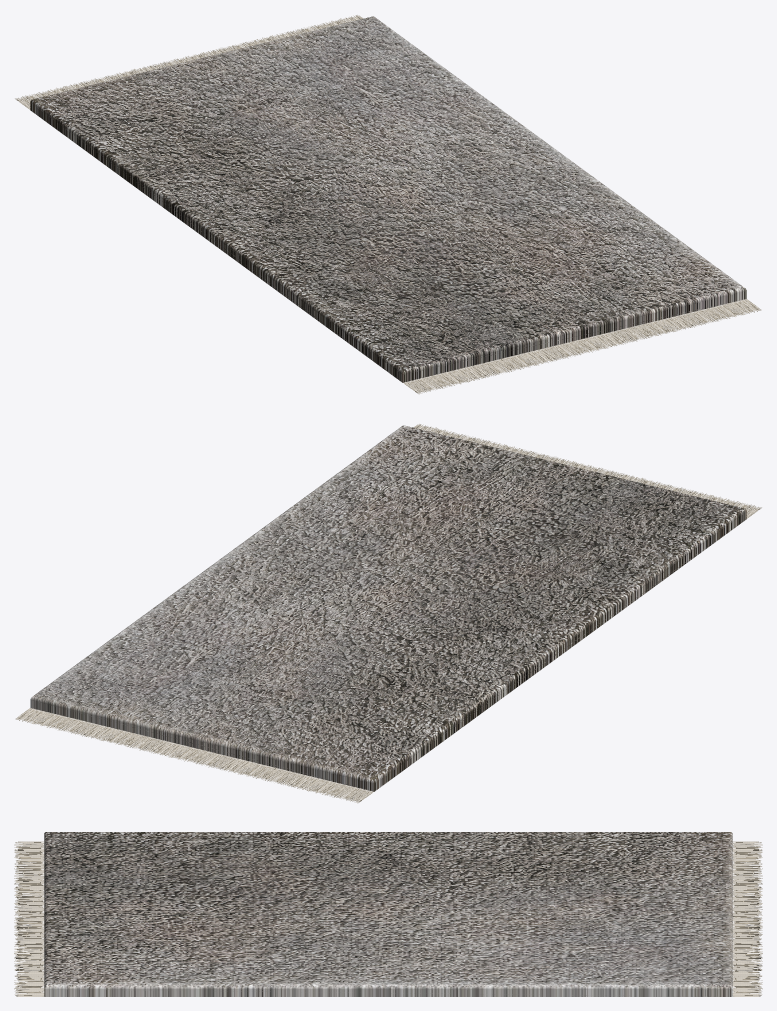
3 renders of one model, top to bottom at view 1: azimuth 30°, elevation 25°; view 2: azimuth 150°, elevation 25°; view 3: azimuth 270°, elevation 25°, orthographic. The views are drawn at different scales.
Visible parts, largest first — view 1: k04; view 2: k04; view 3: k04.
Part boxes in pixels (x1,y1,x2,y2): k04: (15,15,761,394); k04: (15,424,761,803); k04: (14,832,762,996).
Size of the model in its own units: 0.8 by 0.0265 by 1.63.
Materials: 3 (2 with a texture image).
